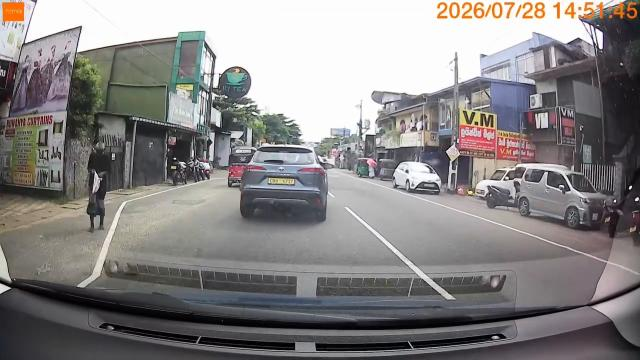number plate: (266, 176, 301, 189)
